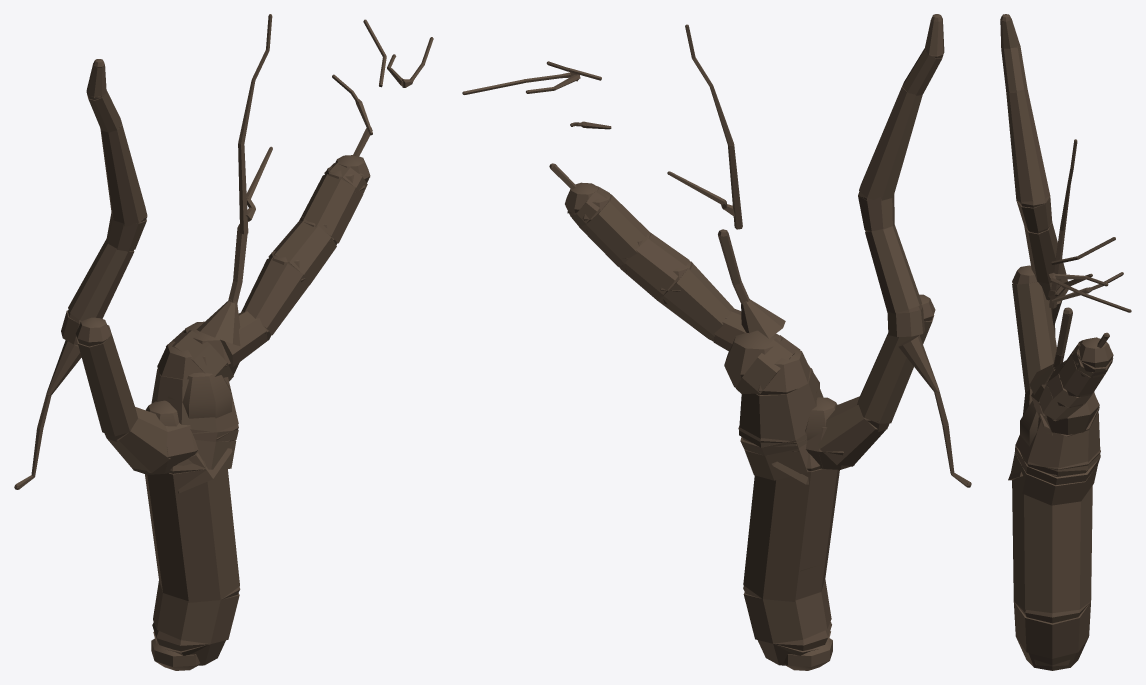
Rendered from ashland-lichen-tree.glb.
The picture shows the model from 3 angles, left to right: view 1: azimuth 30°, elevation 25°; view 2: azimuth 150°, elevation 25°; view 3: azimuth 270°, elevation 25°; orthographic projection. The views are drawn at different scales.
Visible parts, largest first — view 1: body; view 2: body; view 3: body.
Boxes of the visible parts, x1,y1,x2,y2 form: body: [14, 14, 433, 670]; body: [462, 14, 971, 670]; body: [1000, 14, 1131, 670].
Bounding box in the file's own units: 3.17 × 4.3 × 0.849.
